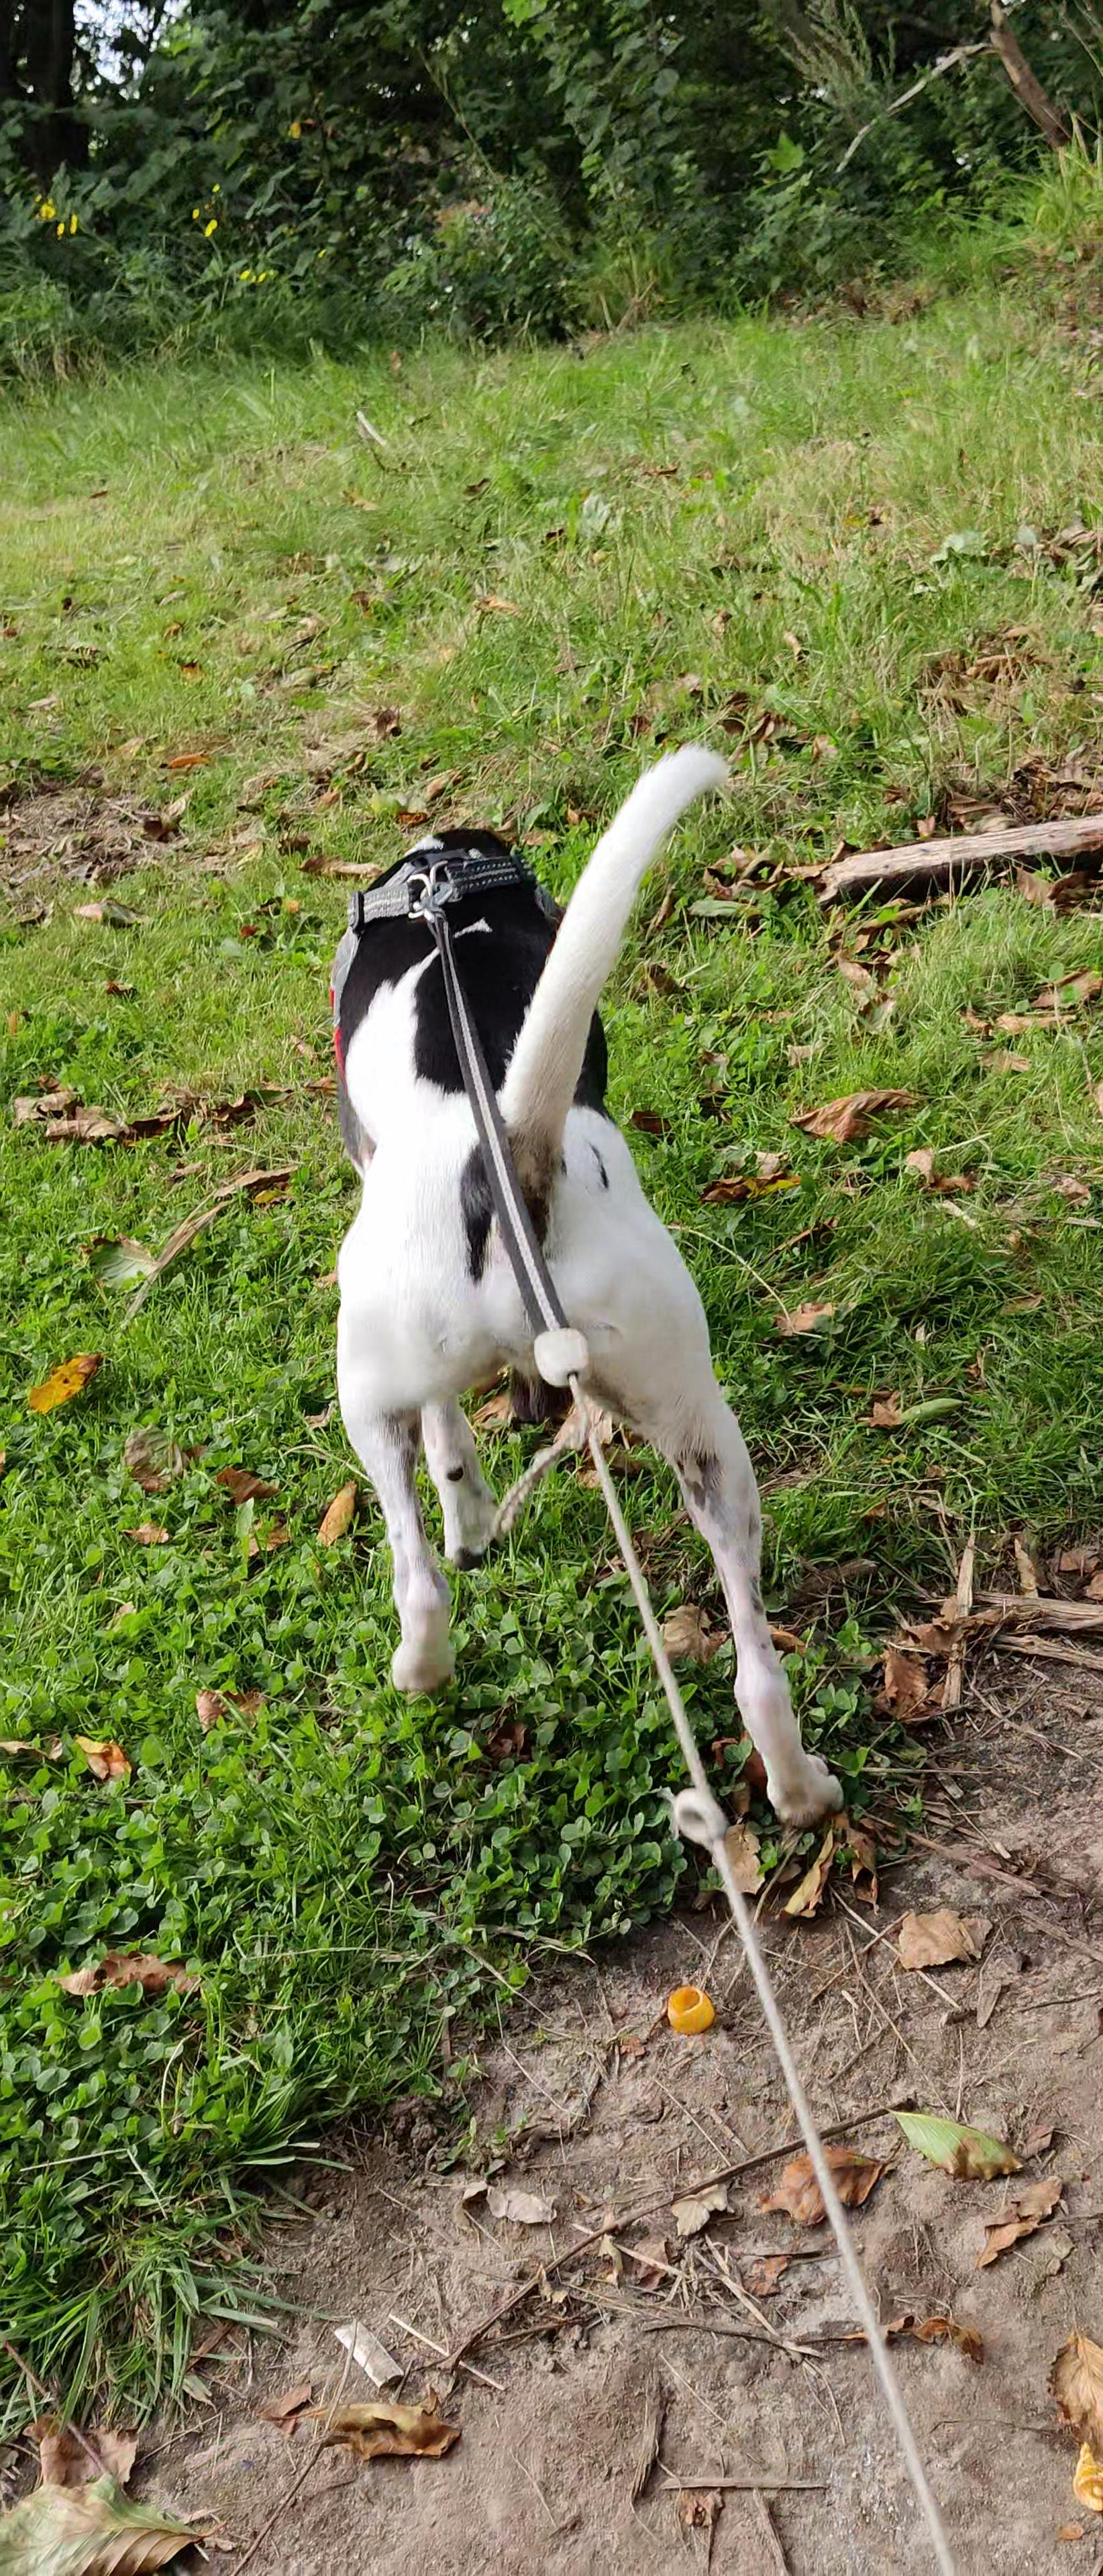Dog: (278, 678, 865, 1840)
